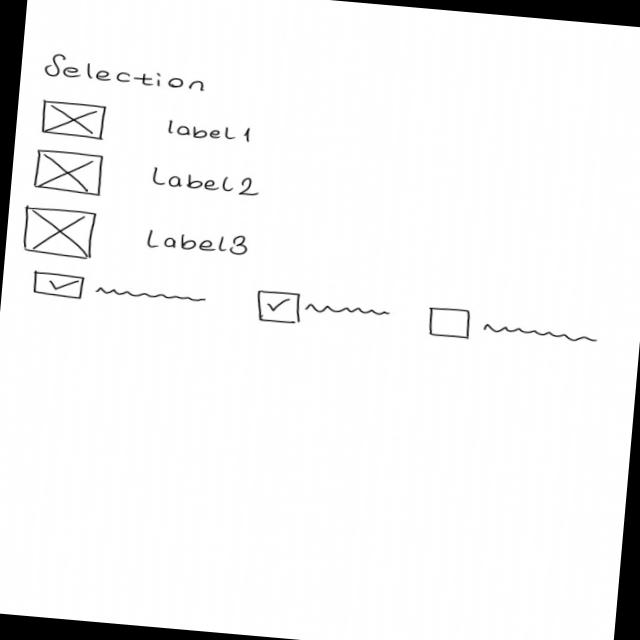checkbox: (425, 307, 604, 355), (31, 271, 211, 312), (254, 288, 396, 336)
image: (19, 205, 100, 262), (32, 146, 108, 198), (39, 98, 109, 141)
label: (43, 51, 211, 95), (150, 164, 266, 200), (146, 225, 253, 259), (164, 118, 256, 146)
